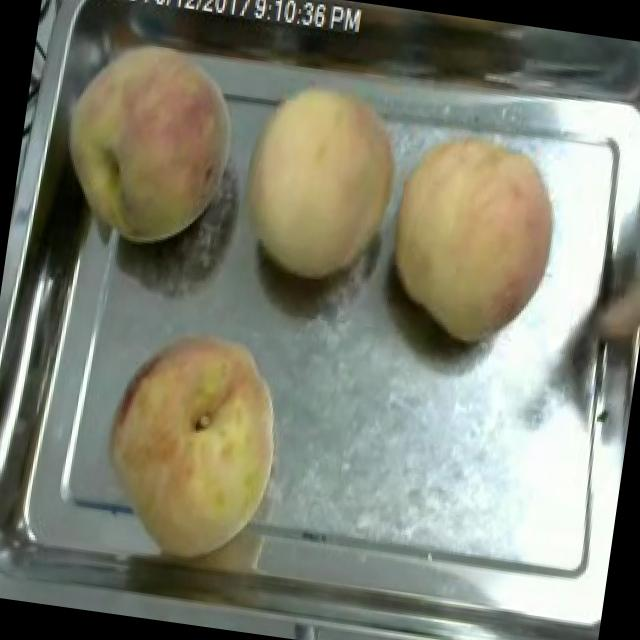Fruit: (84, 309, 302, 573), (36, 21, 259, 270), (364, 113, 578, 364), (216, 54, 426, 304)
